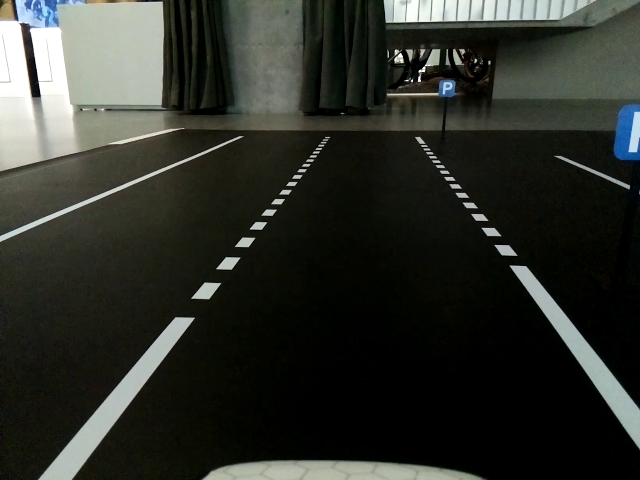park: (613, 105, 640, 158), (440, 79, 455, 96)
